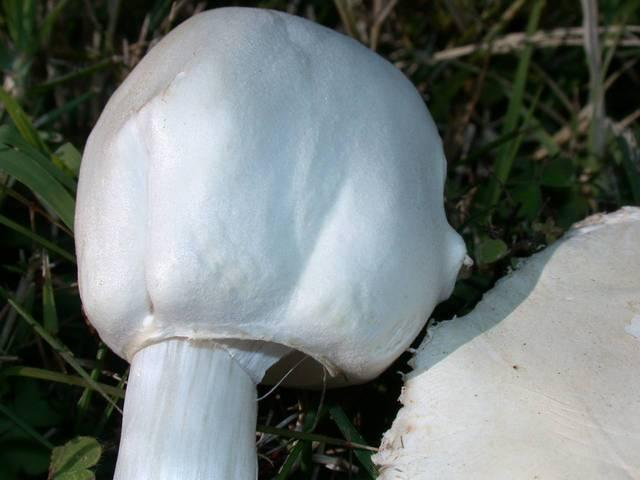poisonous_mushroom: (71, 5, 470, 479)
